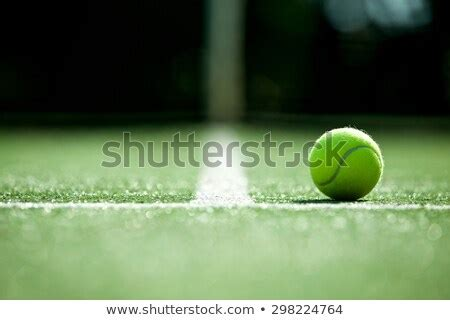tennis_ball: (310, 127, 384, 201)
